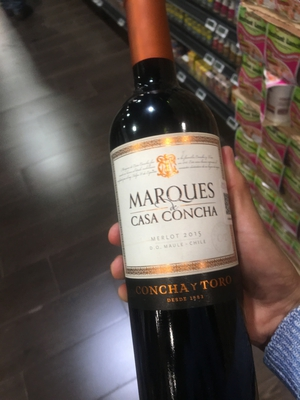marques de casa concha merlot: (108, 14, 266, 398)
